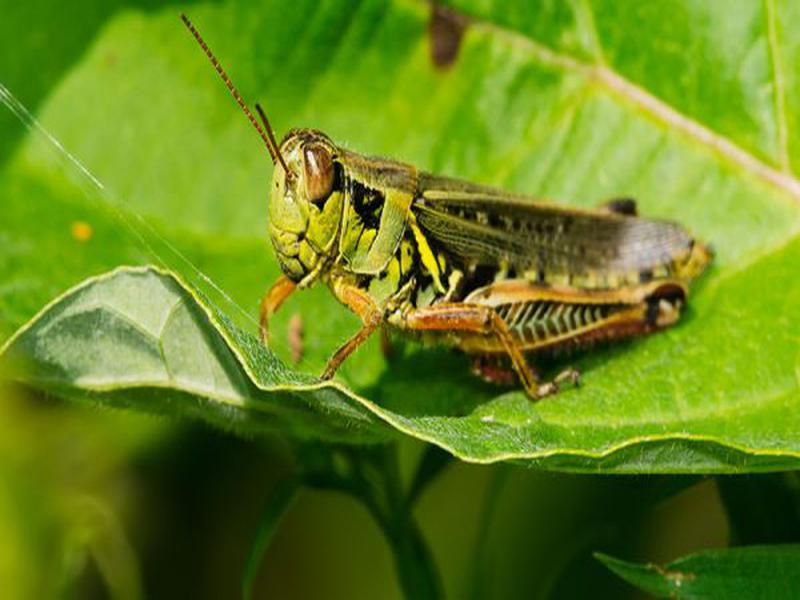Grasshopper: (235, 116, 721, 397)
